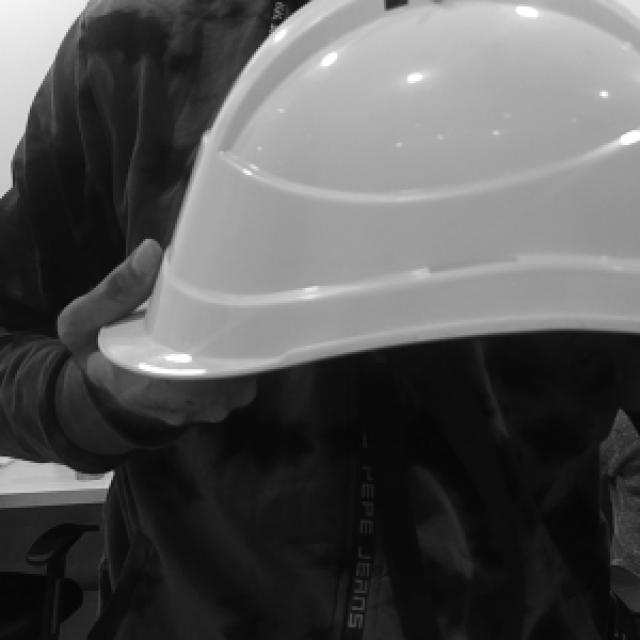safety_helmet: (98, 1, 640, 381)
